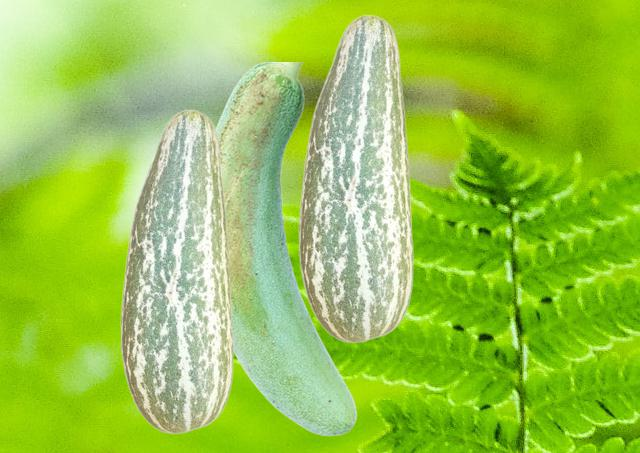cucumber: (215, 62, 356, 435), (298, 14, 413, 342), (120, 109, 233, 433)
